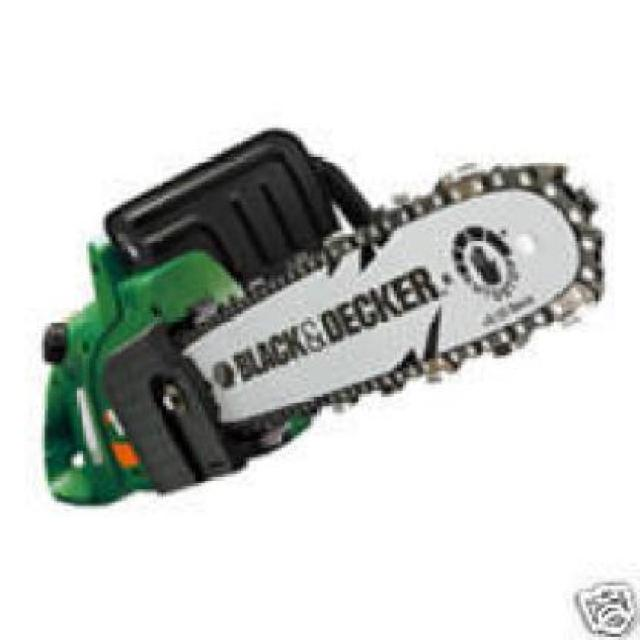Chainsaw: (38, 126, 610, 509)
